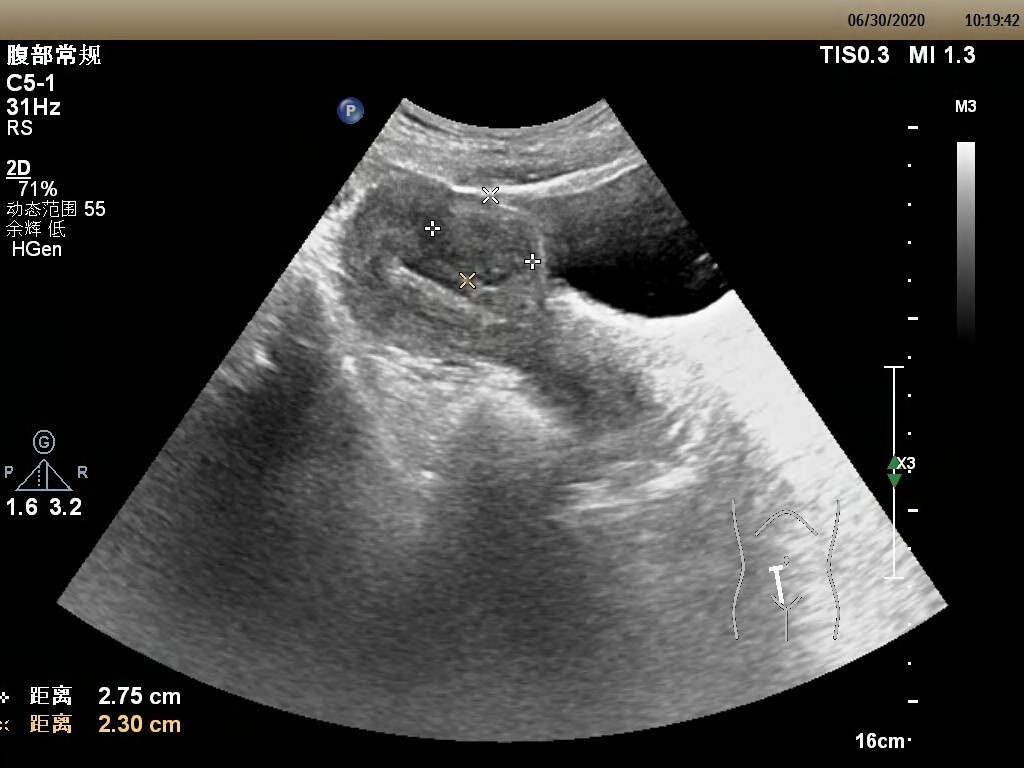肌瘤: (433, 195, 533, 278)
